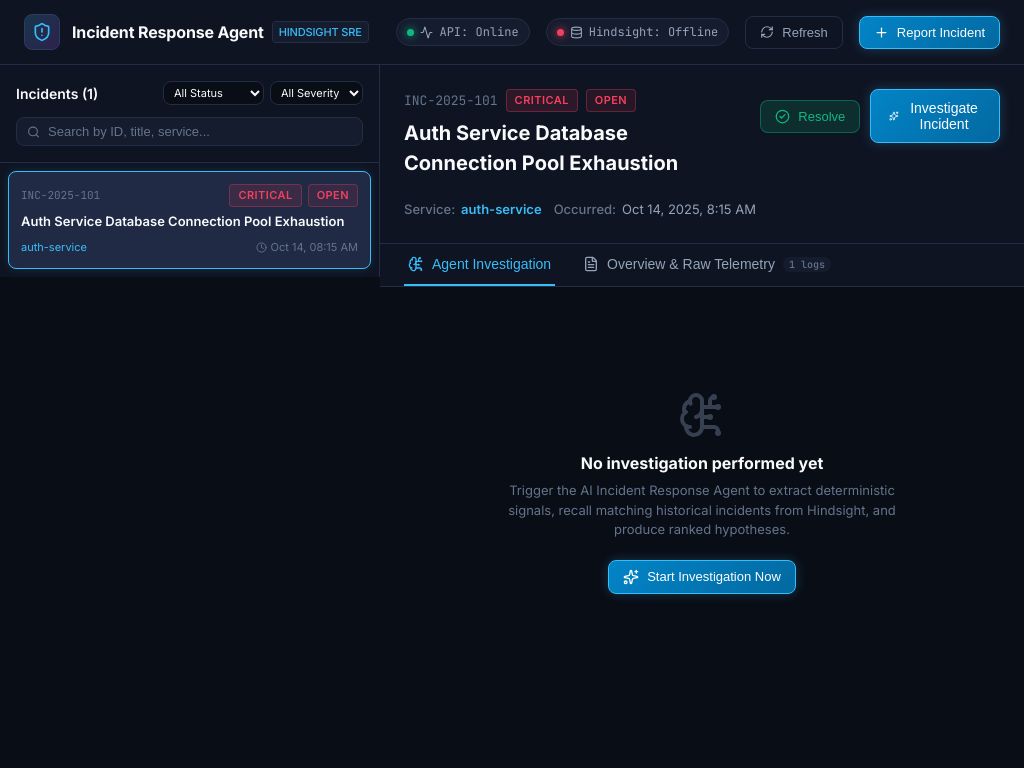
Test case: App Dashboard Integration › handles investigation flow successfully
The image size is (1024, 768).
Click the button "Investigate Incident": [935, 116] box [870,89,1000,143]
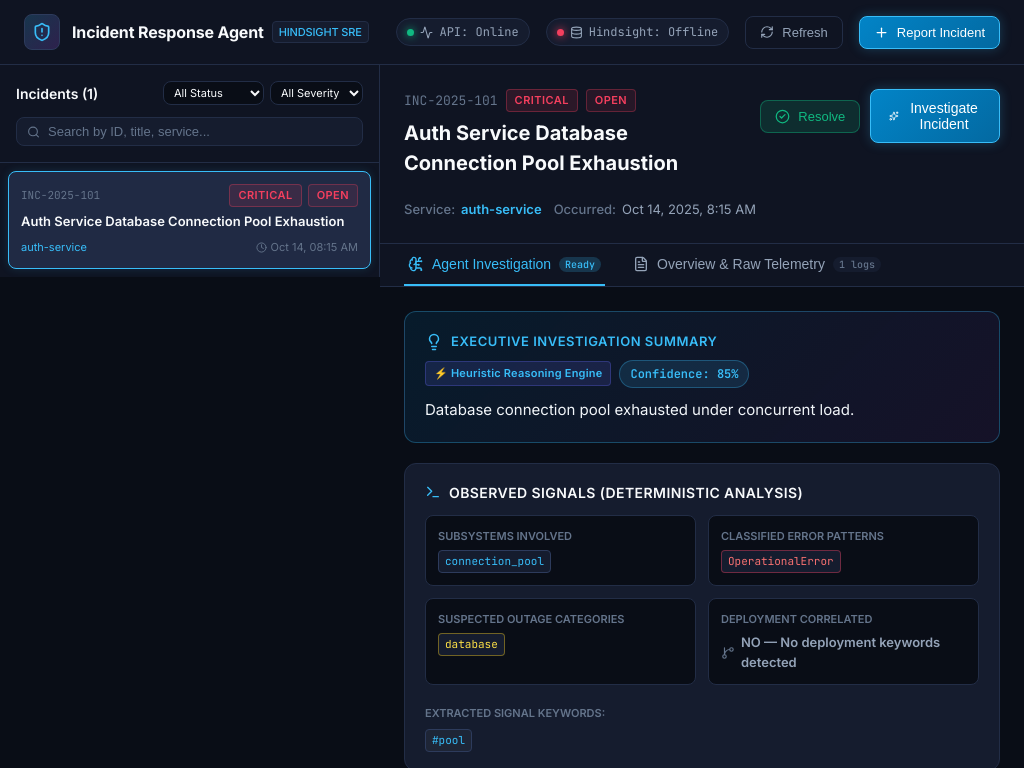
Expected: the text "Executive Investigation Summary" is shown, [451,332,717,352]
Expected: the text "Database connection pool exhausted under concurrent load." is shown, [425,400,854,418]
